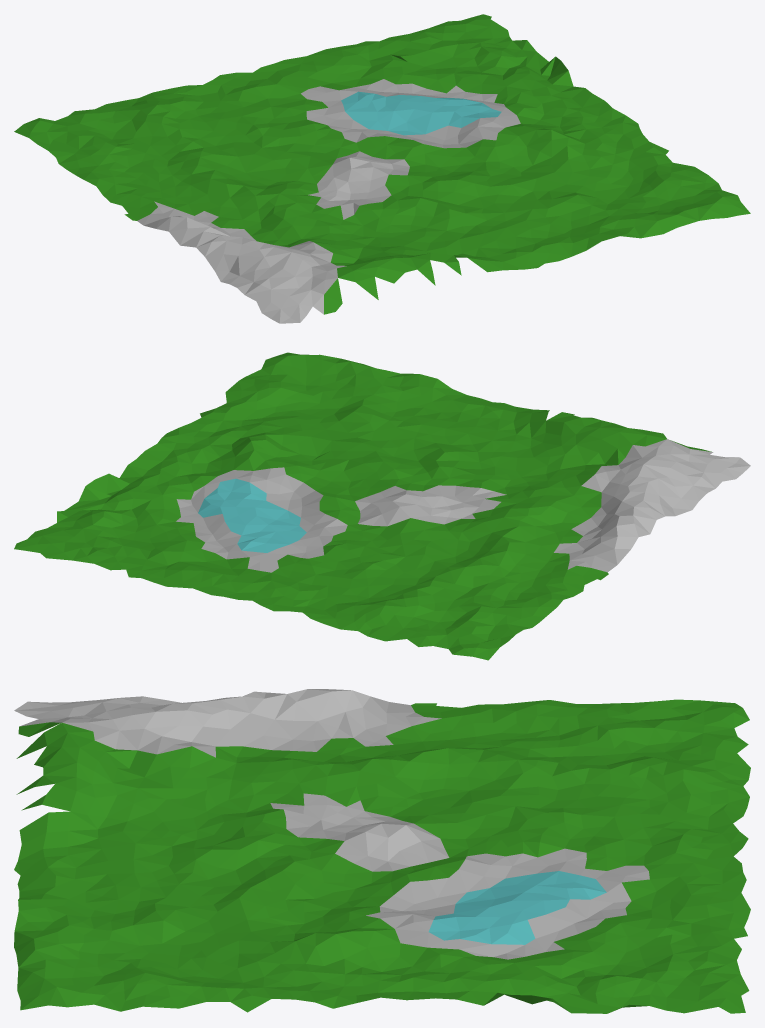
File: FlatLowPoly.fbx
The picture shows the model from 3 angles, top to bottom: view 1: azimuth 30°, elevation 25°; view 2: azimuth 150°, elevation 25°; view 3: azimuth 270°, elevation 25°; orthographic projection. The views are drawn at different scales.
Visible parts, largest first — view 1: Plane; view 2: Plane; view 3: Plane.
Part boxes in pixels (x1,y1,x2,y2): Plane: [14, 14, 750, 323]; Plane: [14, 352, 750, 660]; Plane: [14, 689, 750, 1013].
Bounding box in the file's own units: 4000 × 193 × 4000.
